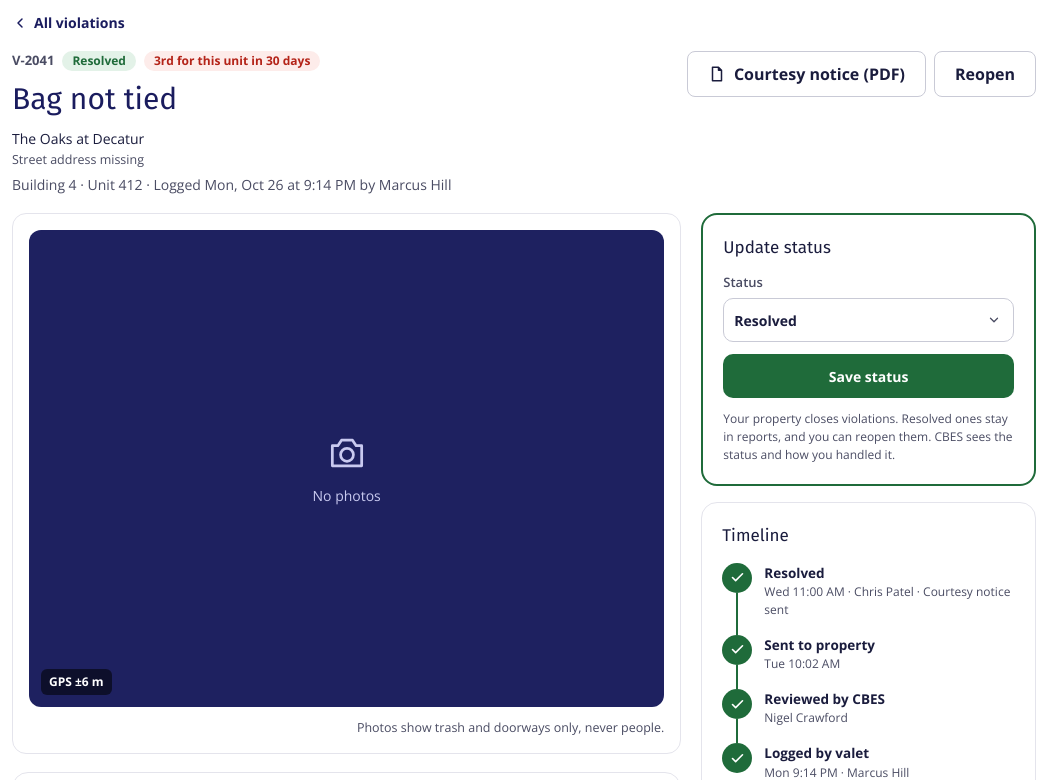
Scenario: the property's violation page › reopens a resolved violation
The image size is (1048, 780).
Expected: the text "Wed 11:00 AM · Chris Patel · Courtesy notice sent" is shown, [764,583,1015,619]
Expected: the button "Mark resolved" is not shown
What coordinates should you click on to do the following:
click the button "Reopen"
I would click on:
 (985, 74)
Its box is [934,51,1036,97].
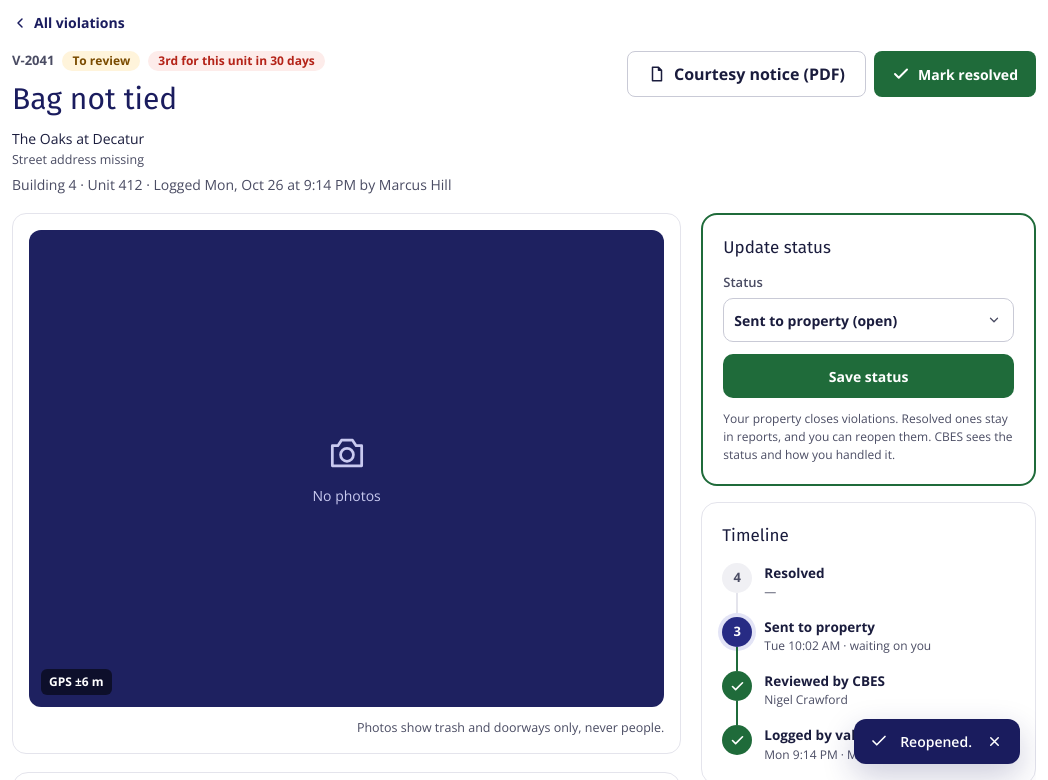
Expected: the text "Reopened." is shown, [900,731,972,752]
